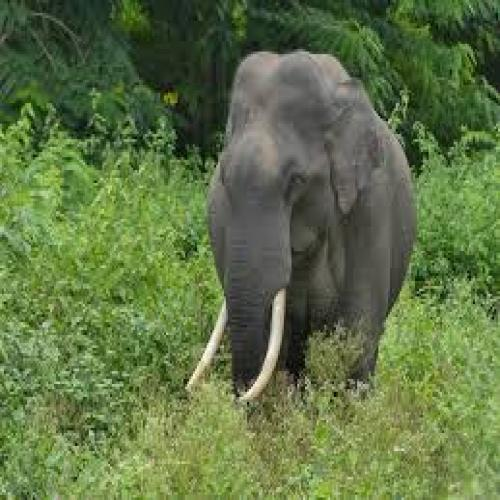asian_elephant-endangered: (184, 53, 417, 412)
